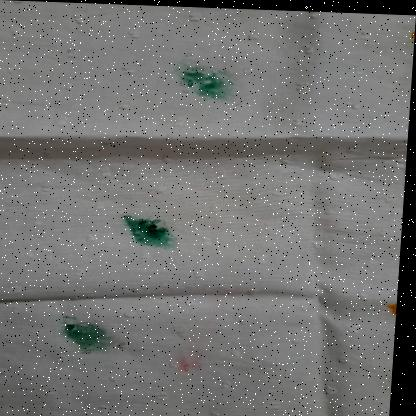spot: (173, 50, 252, 104), (119, 212, 183, 250), (60, 315, 124, 353), (180, 347, 212, 372), (384, 295, 401, 315), (405, 27, 415, 42)
